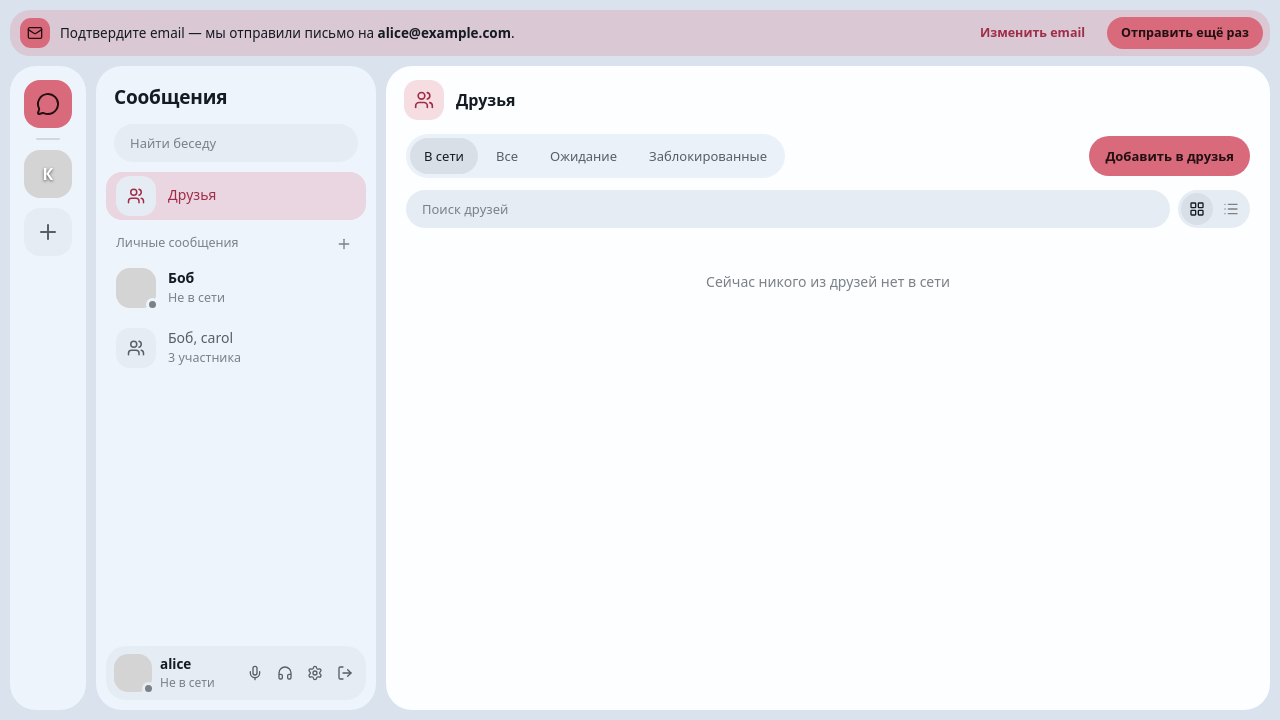
Test case: verify email banner › shows why the email could not be sent
Click the button "Отправить ещё раз": (1185, 33) x1=1107 y1=17 x2=1263 y2=49
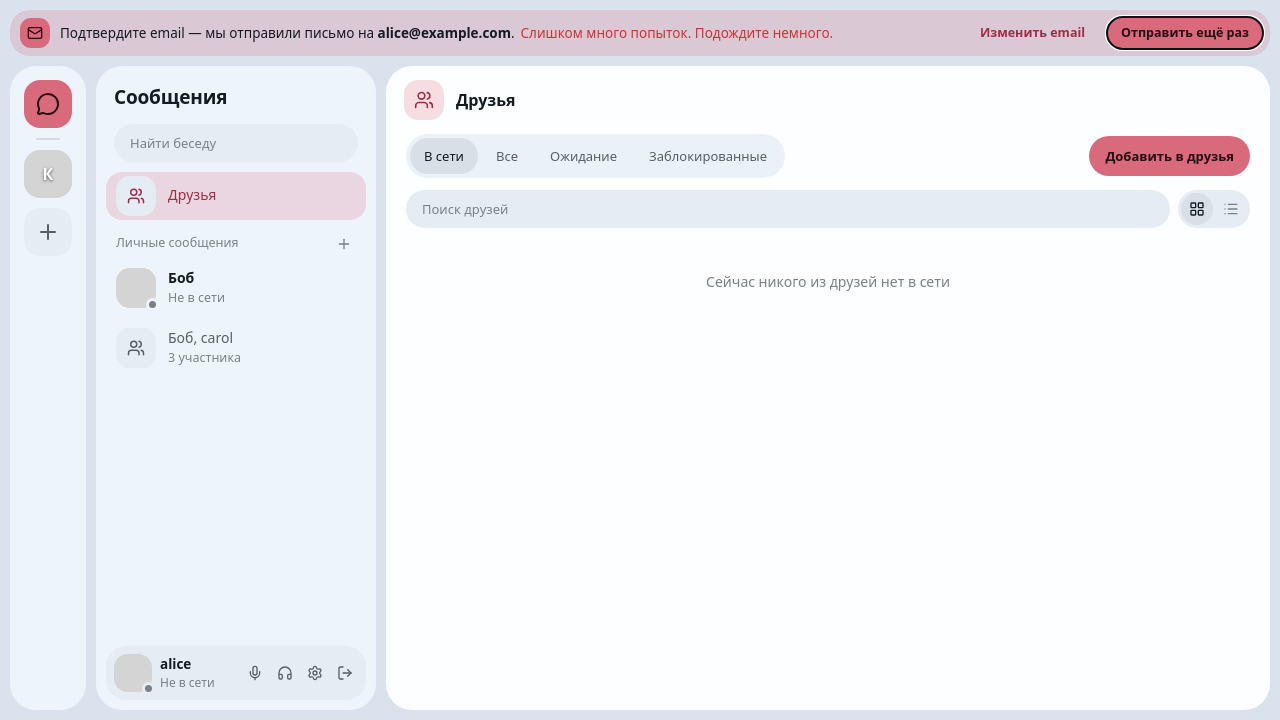
Expected: the text "Слишком много попыток. Подождите немного." is shown, x1=521 y1=24 x2=833 y2=42
